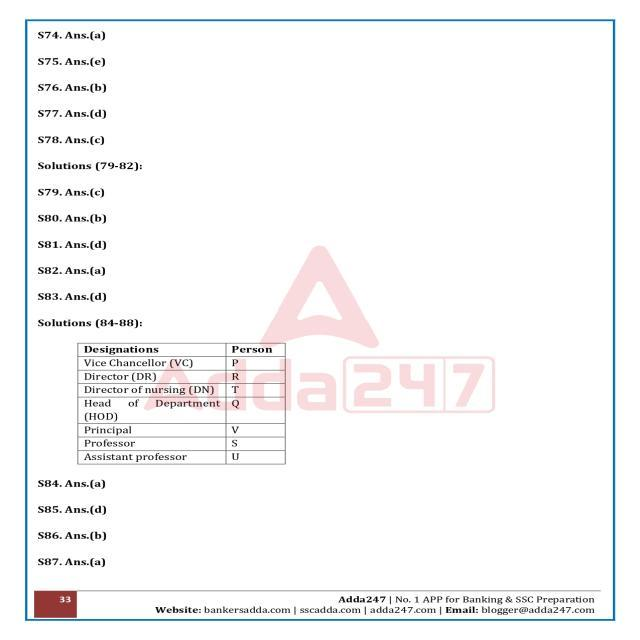Description: (27, 288, 614, 472), (27, 258, 614, 286), (27, 21, 614, 48), (27, 525, 614, 550), (29, 52, 608, 76), (27, 552, 614, 574), (27, 498, 614, 520), (27, 474, 614, 496), (27, 234, 614, 256), (27, 213, 614, 230), (24, 81, 610, 98), (24, 132, 610, 149), (22, 183, 608, 200), (29, 157, 607, 174), (24, 105, 610, 121)
Question_Answer_Block: (27, 16, 614, 581)
Question_Paper_Area: (27, 16, 614, 581)
